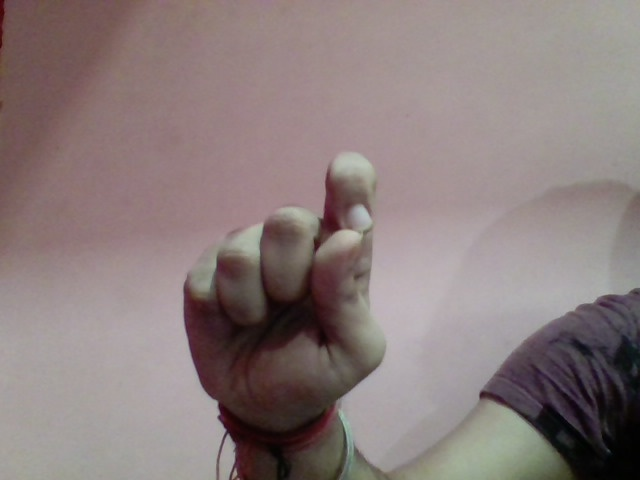t: (162, 145, 404, 424)
